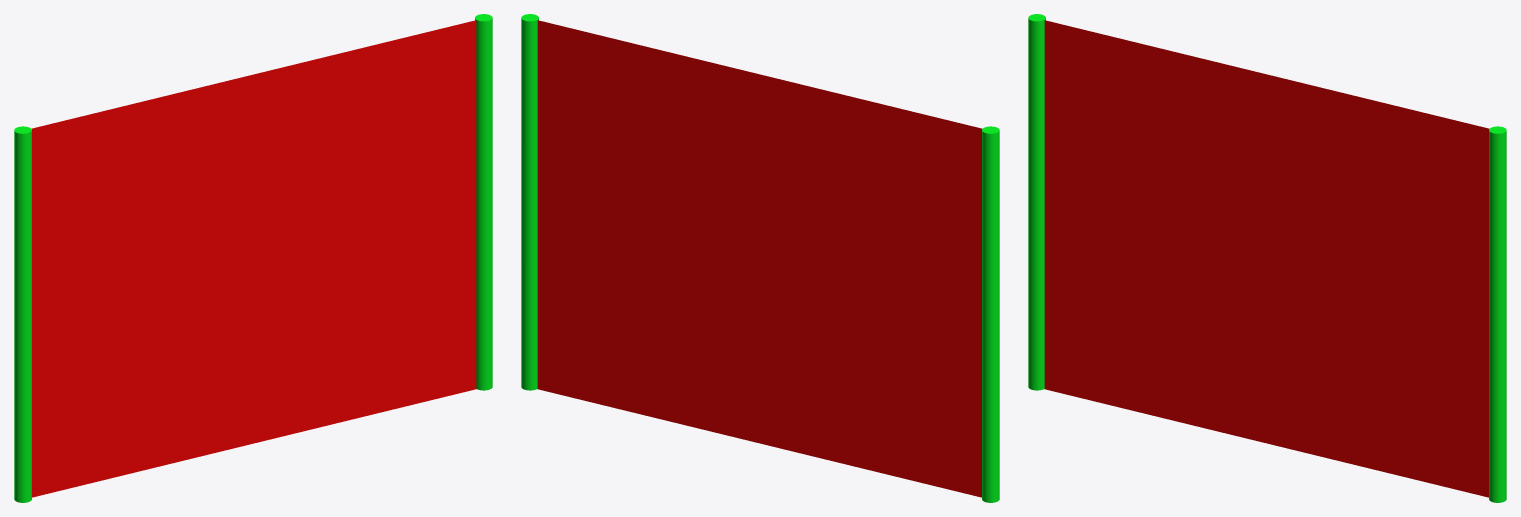
File: vallaobra_1.fbx
The picture shows the model from 3 angles, left to right: view 1: azimuth 30°, elevation 25°; view 2: azimuth 150°, elevation 25°; view 3: azimuth 330°, elevation 25°; orthographic projection.
Visible parts, largest first — view 1: Cylinder004; view 2: Cylinder004; view 3: Cylinder004.
Part boxes in pixels (box(x1,y1,x2,y2)): Cylinder004: box(14, 14, 492, 502); Cylinder004: box(521, 14, 999, 502); Cylinder004: box(1028, 14, 1506, 502).
Bounding box in the file's own units: 2.56 × 1.9 × 0.0812.
